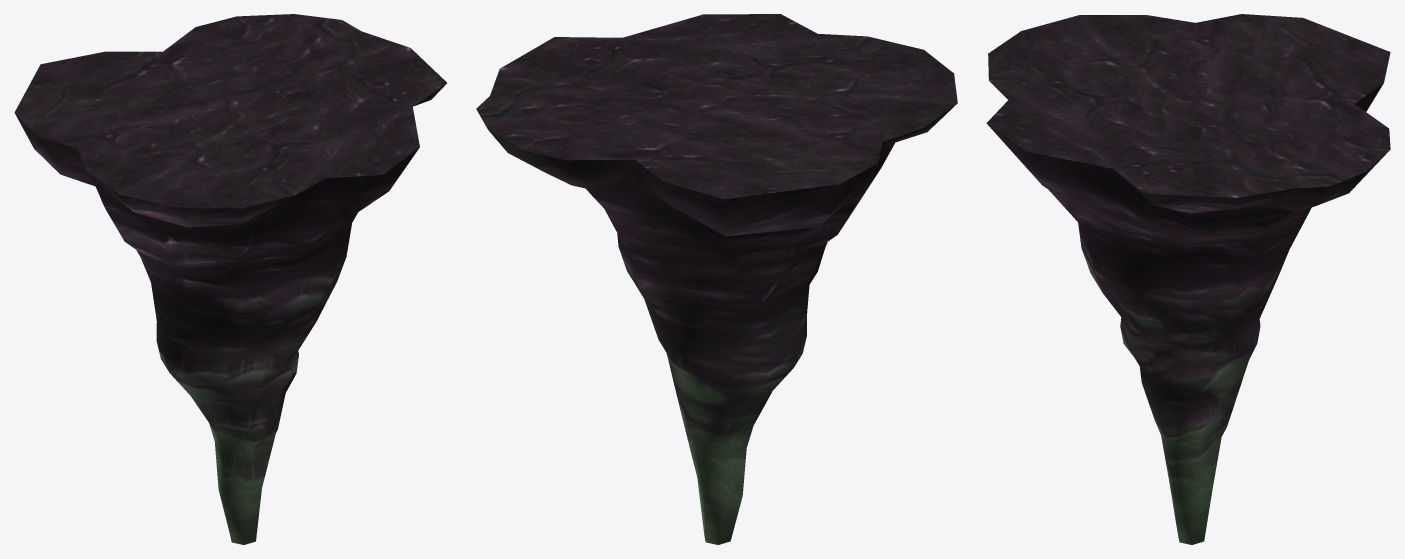
Rendered from cave_stalactite_03.fbx.
3 views of the same model, side by side, from view 1: azimuth 30°, elevation 25°; view 2: azimuth 150°, elevation 25°; view 3: azimuth 270°, elevation 25° (orthographic). The views are drawn at different scales.
Visible parts, largest first — view 1: cave_stalactite_03-0; view 2: cave_stalactite_03-0; view 3: cave_stalactite_03-0.
Part boxes in pixels (left/top/right/bottom): cave_stalactite_03-0: left=14, top=14, right=446, bottom=544; cave_stalactite_03-0: left=476, top=14, right=957, bottom=544; cave_stalactite_03-0: left=986, top=14, right=1390, bottom=544.
Bounding box in the file's own units: 4.41 × 4.93 × 4.09.
